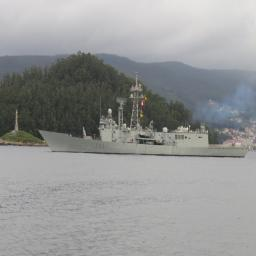Fragata: (37, 71, 251, 160)
